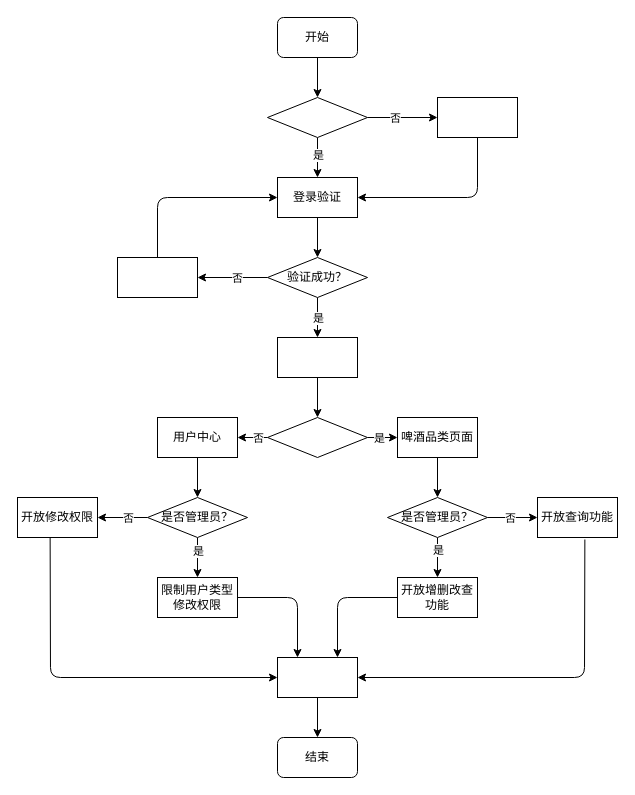
The diagram is 635 pixels wide and 795 high, and some of its shapes have lost their labels. Here are the shapes that lost their labels. From the top down, the centre of each, then its label:
At (317,117): "已有账号？".
At (477,117): "注册新账号".
At (157,277): "找回密码".
At (317,357): "首页".
At (317,437): "前往上导航栏？".
At (317,677): "退出登录".
